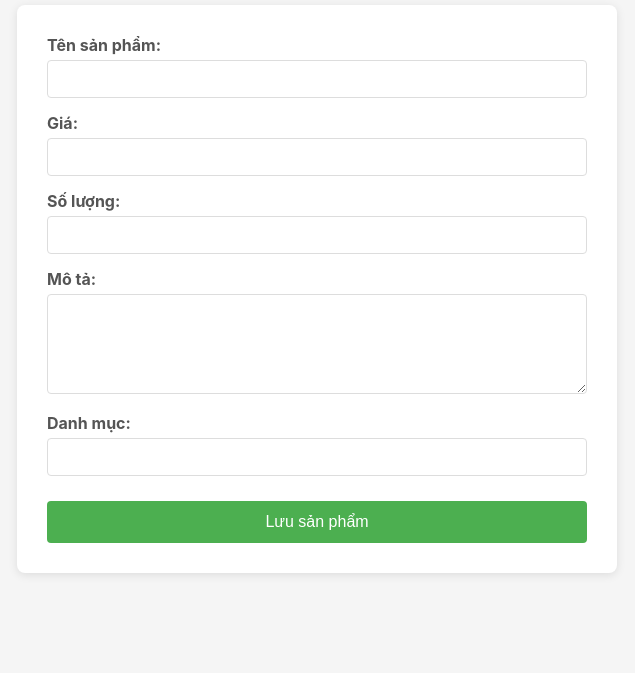
ProductForm Component Tests › TC5: Hiển thị nhiều lỗi validation cùng lúc
This screenshot has width=635, height=673.
# Nhập dữ liệu không hợp lệ
In the field with test id "product-name": {"x": 317, "y": 79} [47,60,587,98], type "AB"
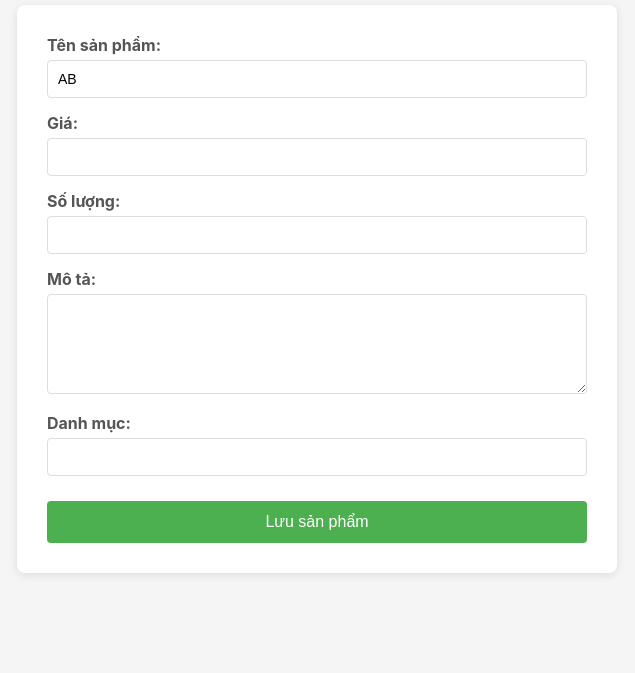
In the number field with test id "product-price": {"x": 317, "y": 157} [47,138,587,176], type "-1000"
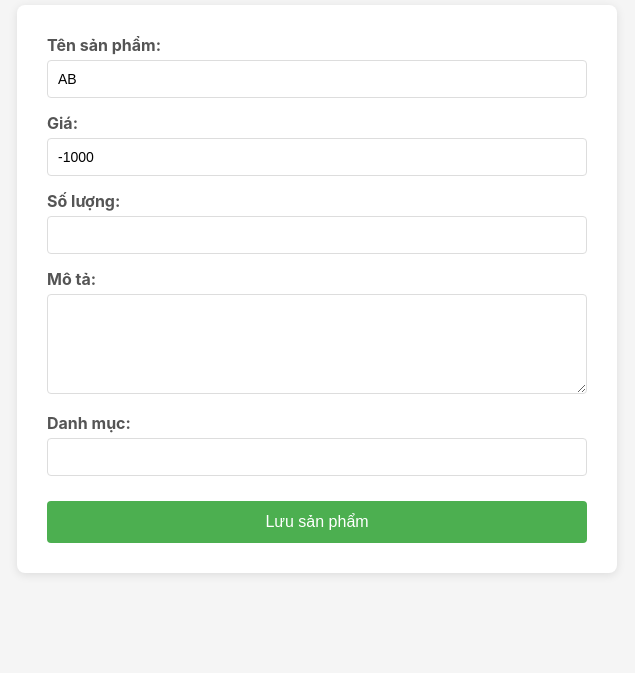
Click the button with test id "submit-button": {"x": 317, "y": 522} [47,501,587,543]
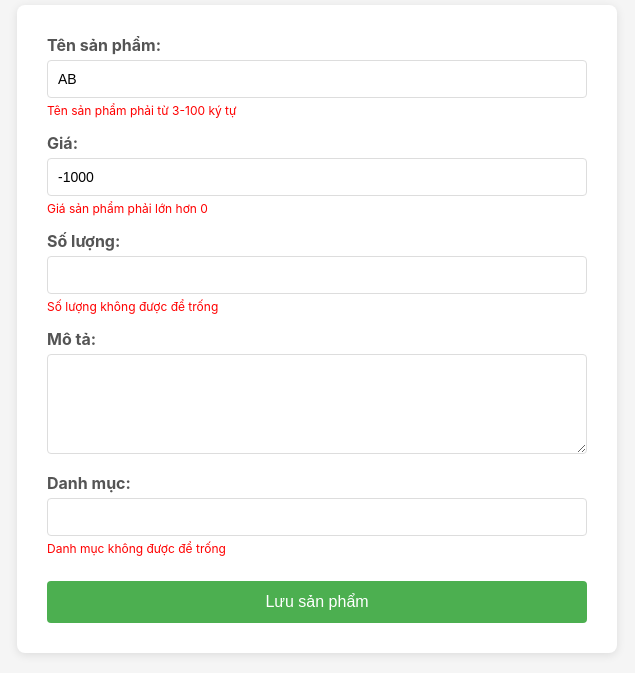
Expected: the text "Tên sản phẩm phải từ 3-100 ký tự" is shown, [47,103,236,118]
Expected: the text "Giá sản phẩm phải lớn hơn 0" is shown, [47,201,208,216]
